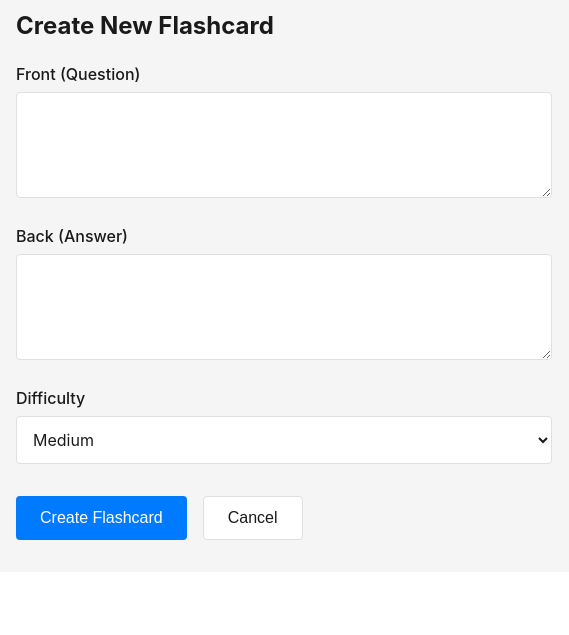
Test: FlashcardEditor Component › should display error message on save failure
Type "Question" into the text box labelled "Front (Question)".
click(284, 145); type("Question")  # box [16,92,552,198]
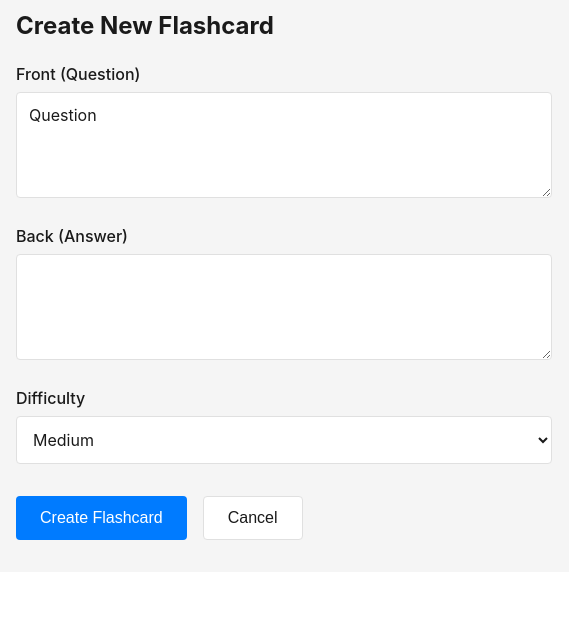
Type "Answer" into the text box labelled "Back (Answer)".
click(284, 307); type("Answer")  # box [16,254,552,360]
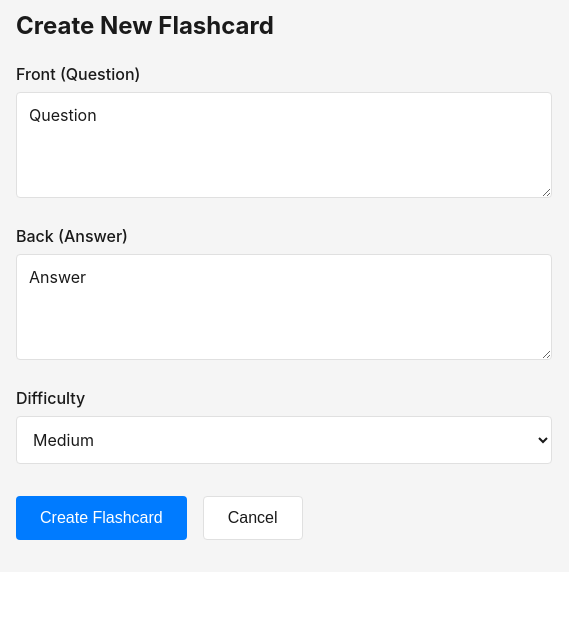
Click the button "Create Flashcard".
click(101, 518)  # box [16,496,187,540]
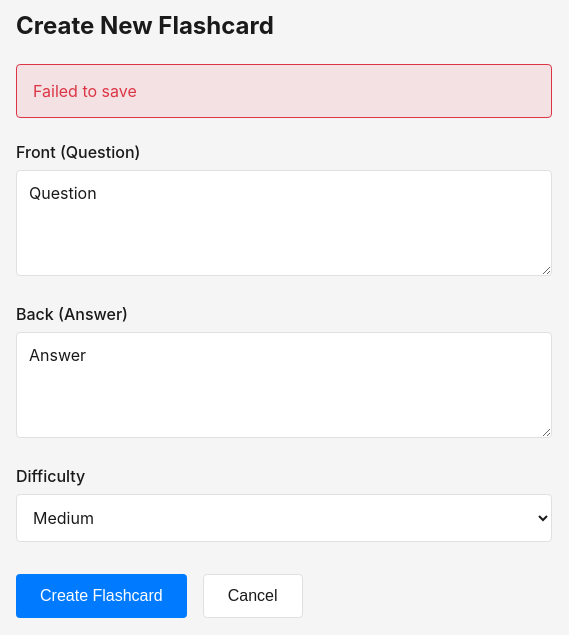
Expected: the text "Failed to save" is shown, [16,64,552,118]
